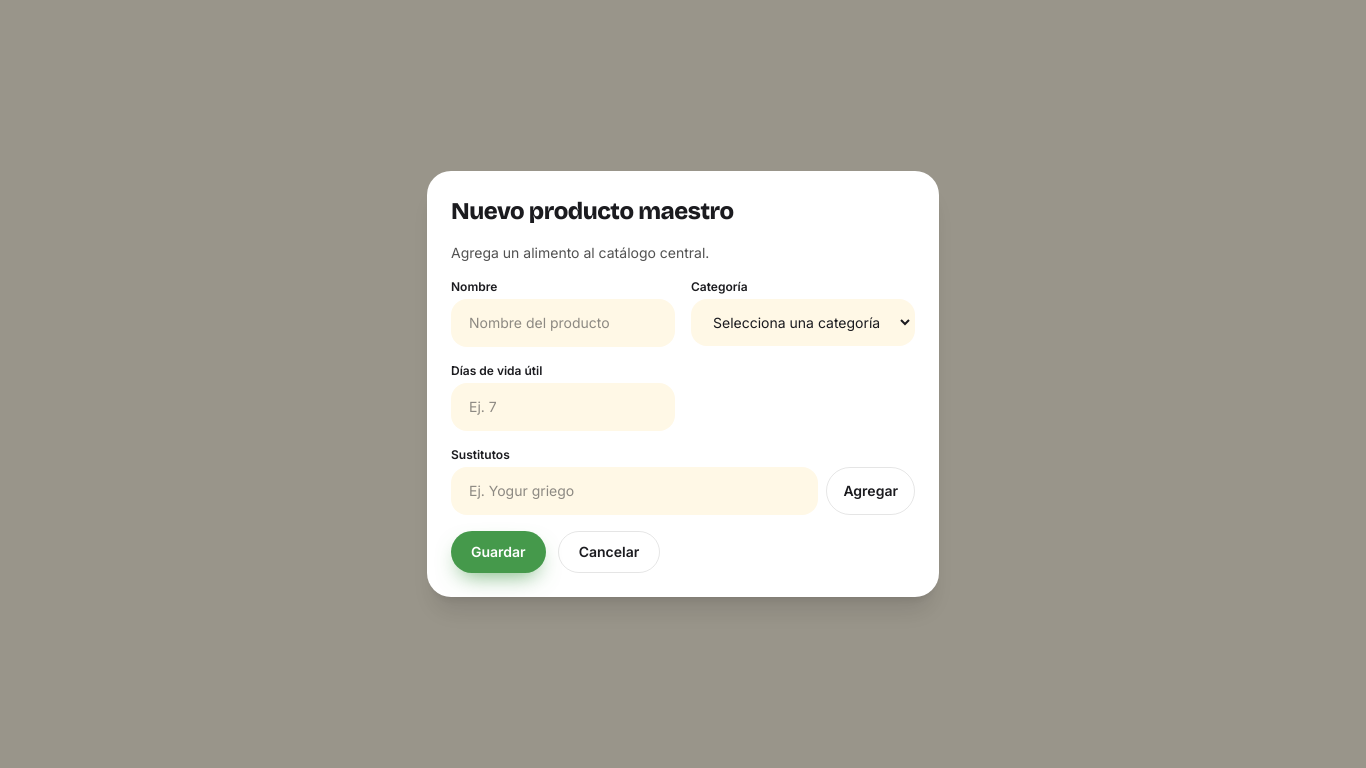
Test: adds the product to the catalog and closes on success
Type "Kiwi" into the field labelled "Nombre". click: {"x": 563, "y": 323}
box: [451,299,675,347]
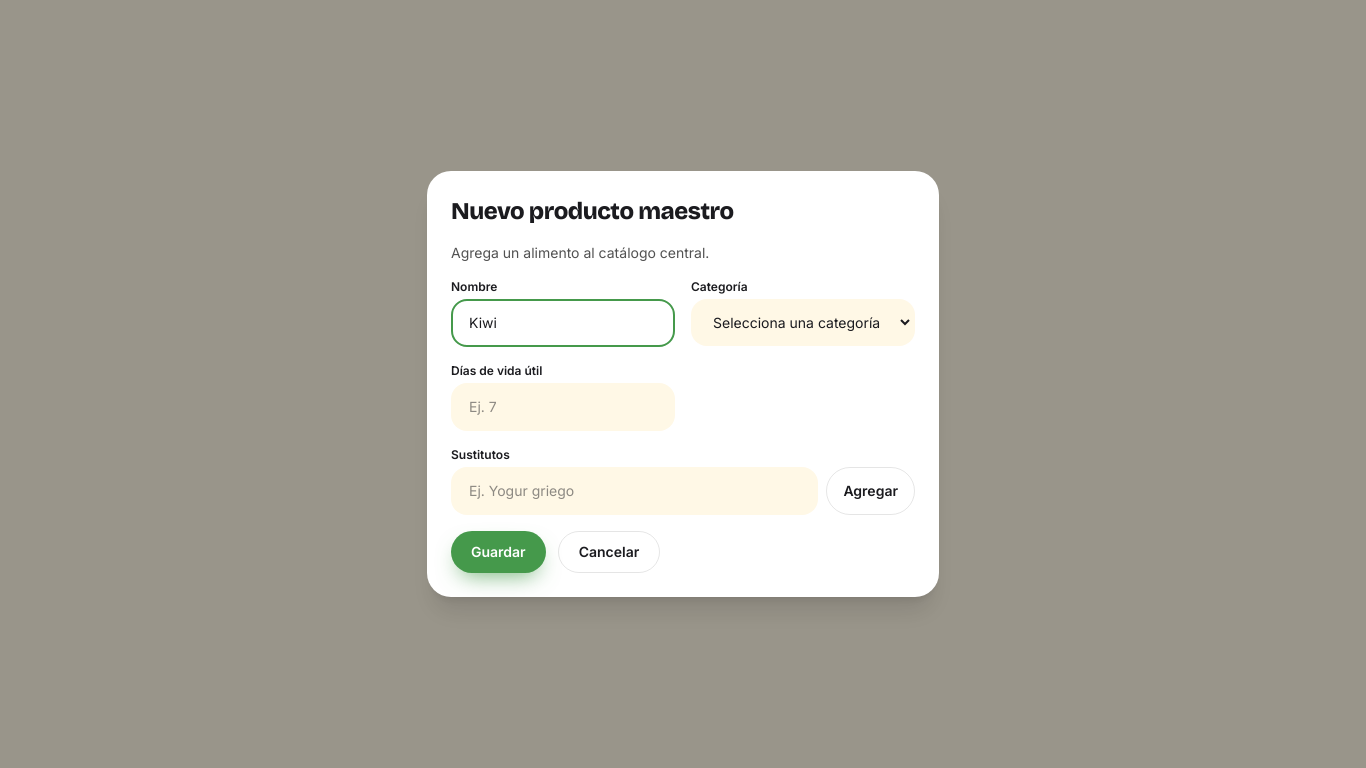
Select "Frutas" in the dropdown labelled "Categoría". click: {"x": 803, "y": 322}
box: [691,299,915,346]
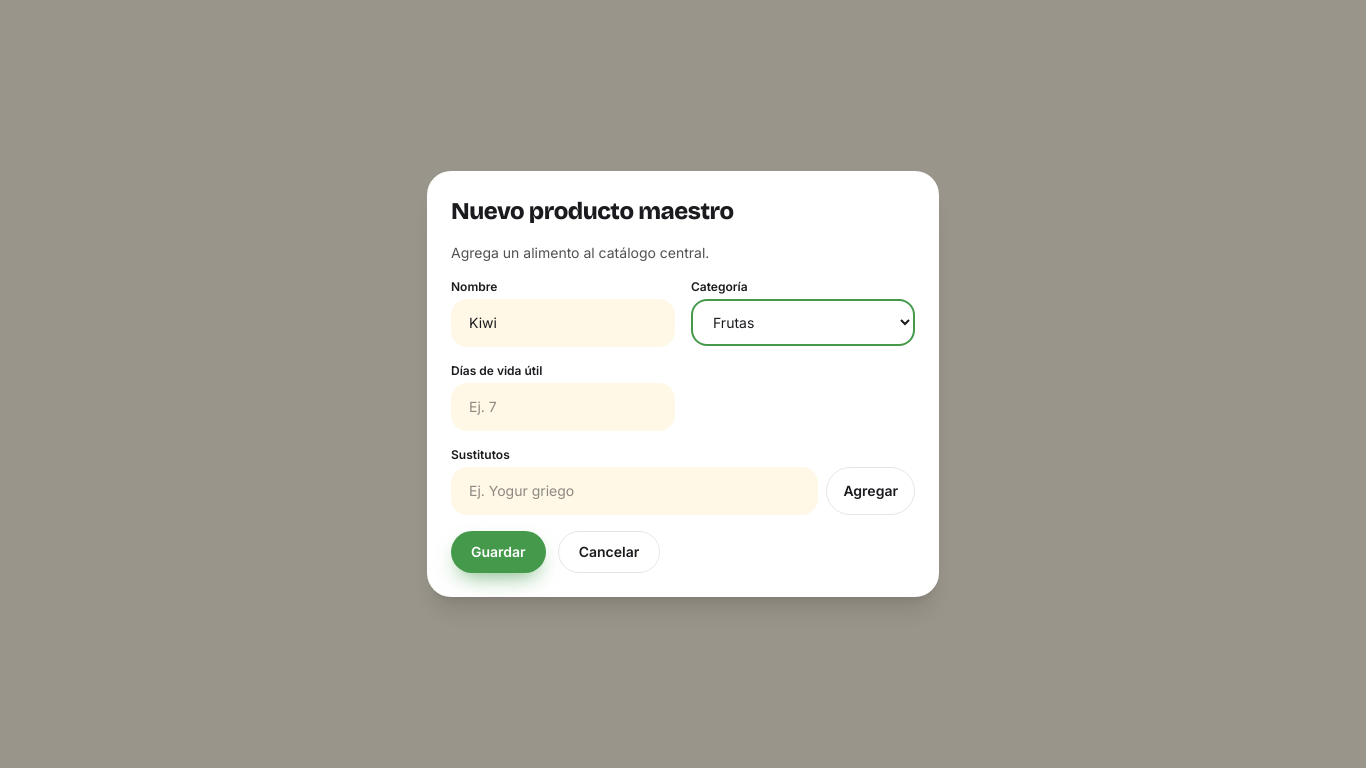
Type "10" into the field labelled "Días de vida útil". click: {"x": 563, "y": 407}
box: [451,383,675,431]
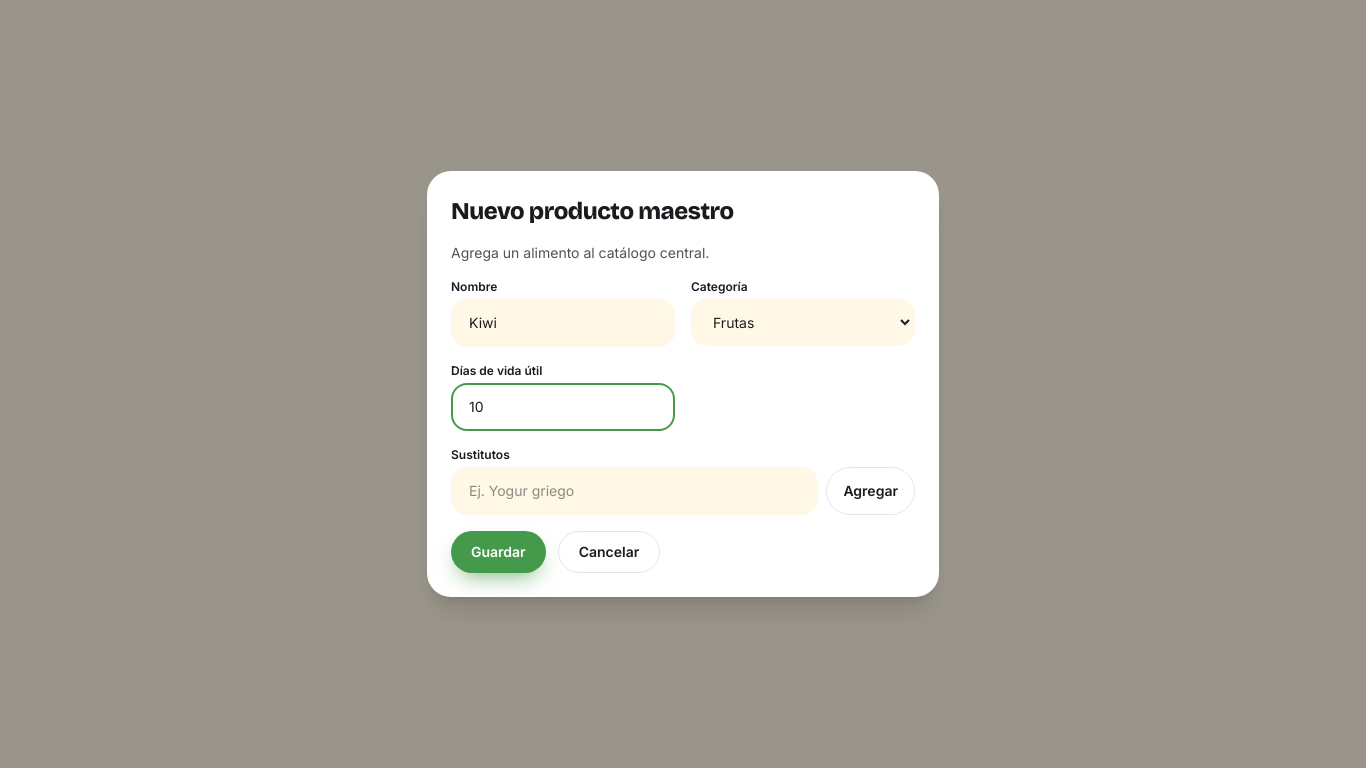
Type "Fresa" into the field labelled "Sustitutos". click: {"x": 635, "y": 491}
box: [451,467,818,515]
Then press Enter
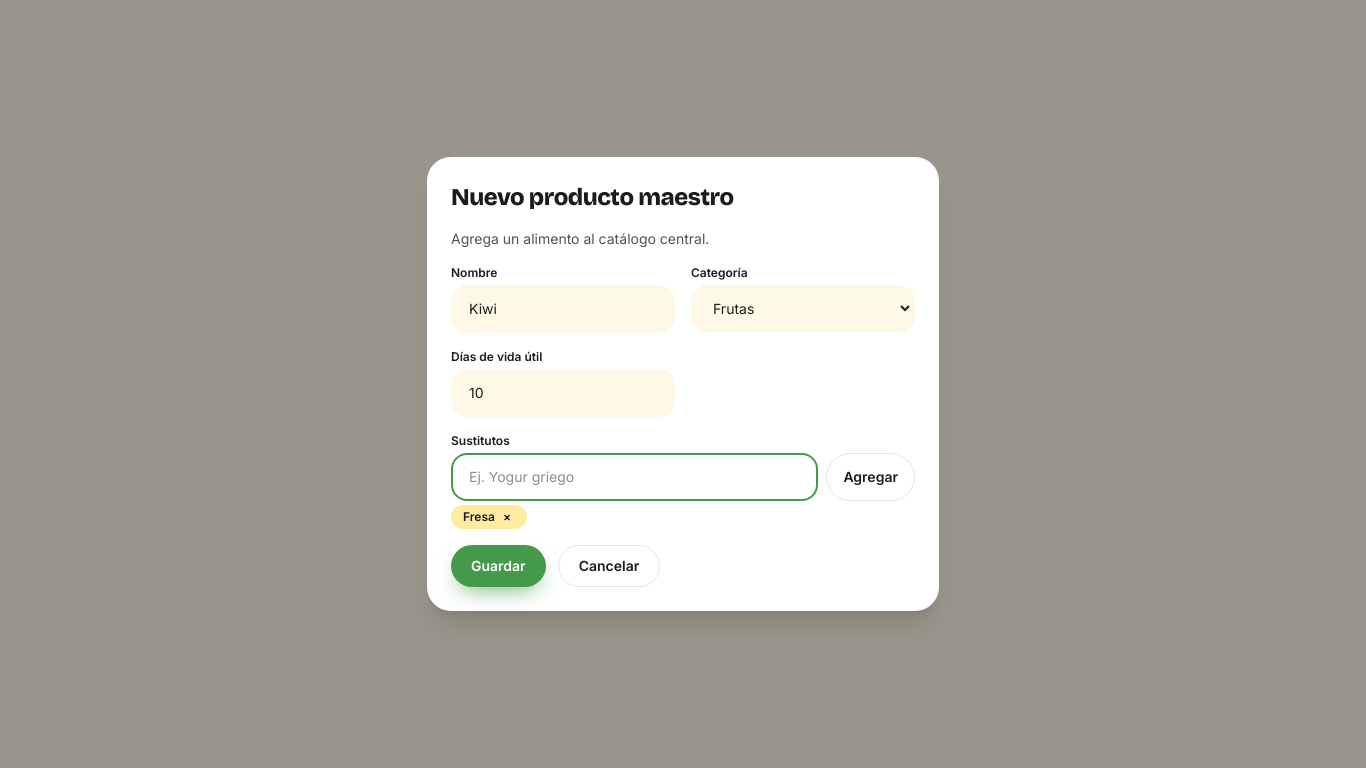
Click the button "Guardar". click: {"x": 498, "y": 566}
box: [451,545,546,587]
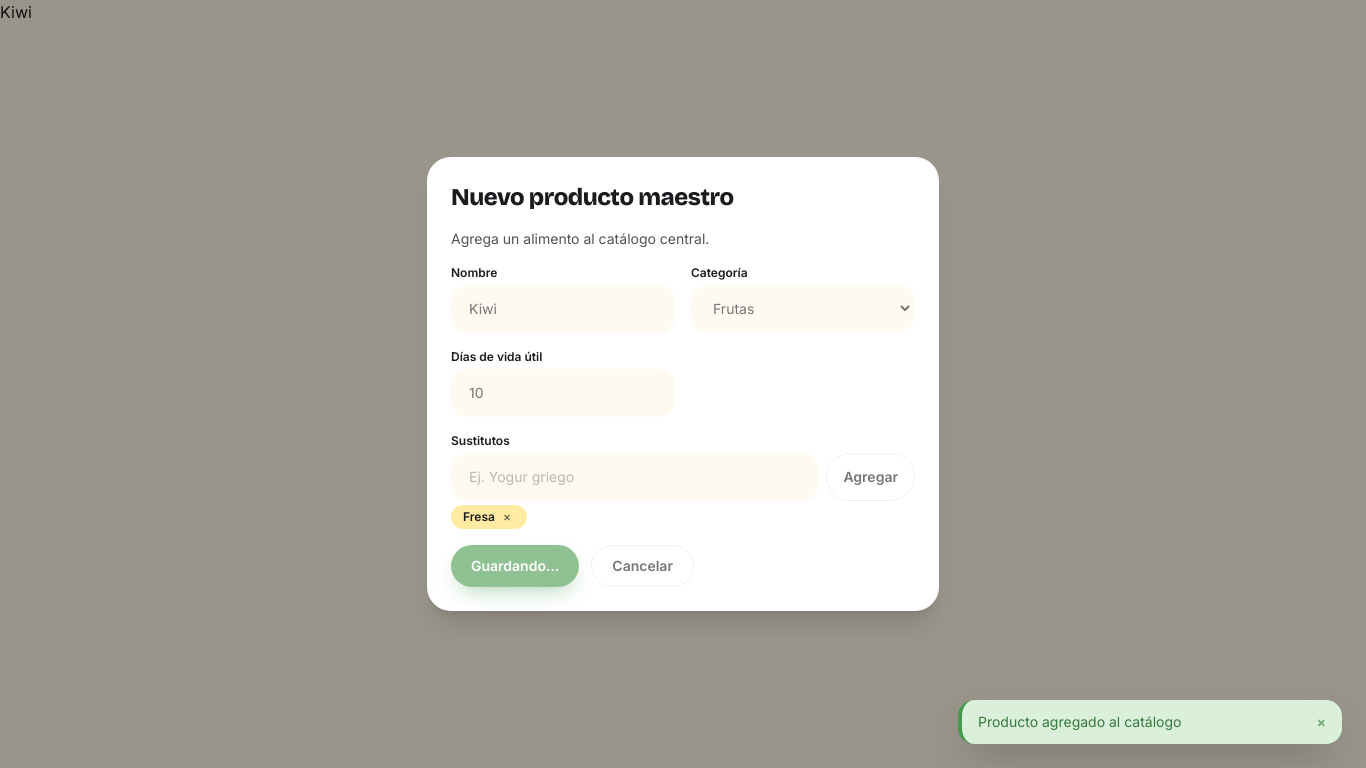
Expected: the text "Producto agregado al catálogo" is shown, [978,713,1182,730]
Expected: the list named "catalogo" reads "Kiwi", [0,2,32,22]
